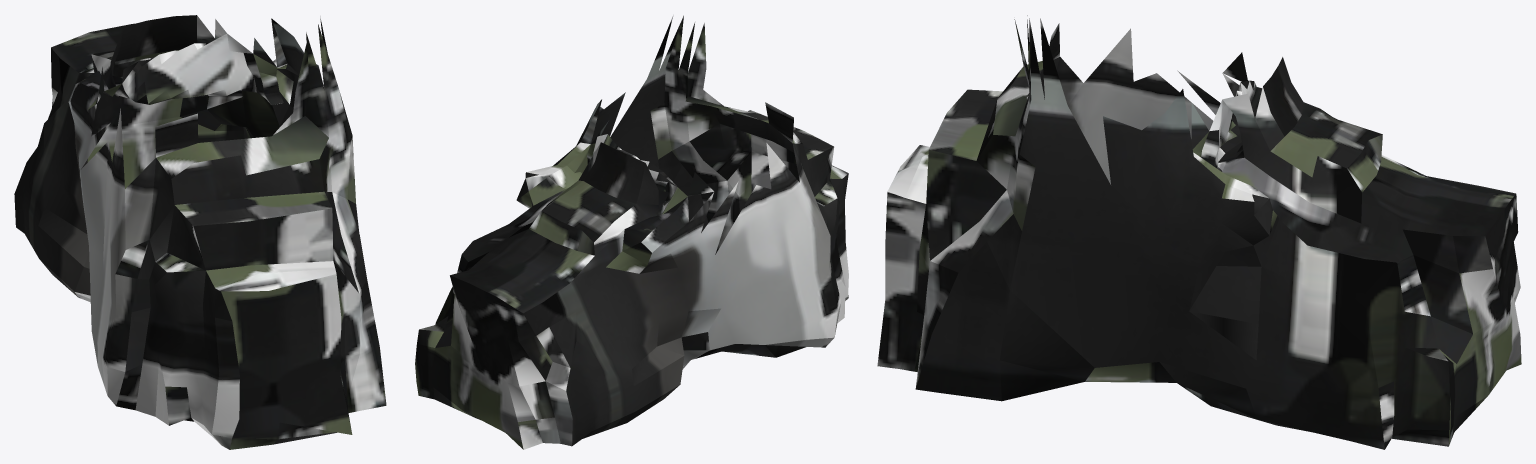
Rendered from soldier_1_waist.obj.
3 views of the same model, side by side, from view 1: azimuth 30°, elevation 25°; view 2: azimuth 150°, elevation 25°; view 3: azimuth 270°, elevation 25° (orthographic). The views are drawn at different scales.
Parts seen in each view (by area): view 1: soldier_1_waist; view 2: soldier_1_waist; view 3: soldier_1_waist.
Boxes of the visible parts, left/top/right/bottom form: soldier_1_waist: left=14, top=15, right=386, bottom=449; soldier_1_waist: left=415, top=15, right=848, bottom=449; soldier_1_waist: left=877, top=15, right=1521, bottom=449.
Size of the model in its own units: 0.2943 by 0.2958 by 0.4601.
